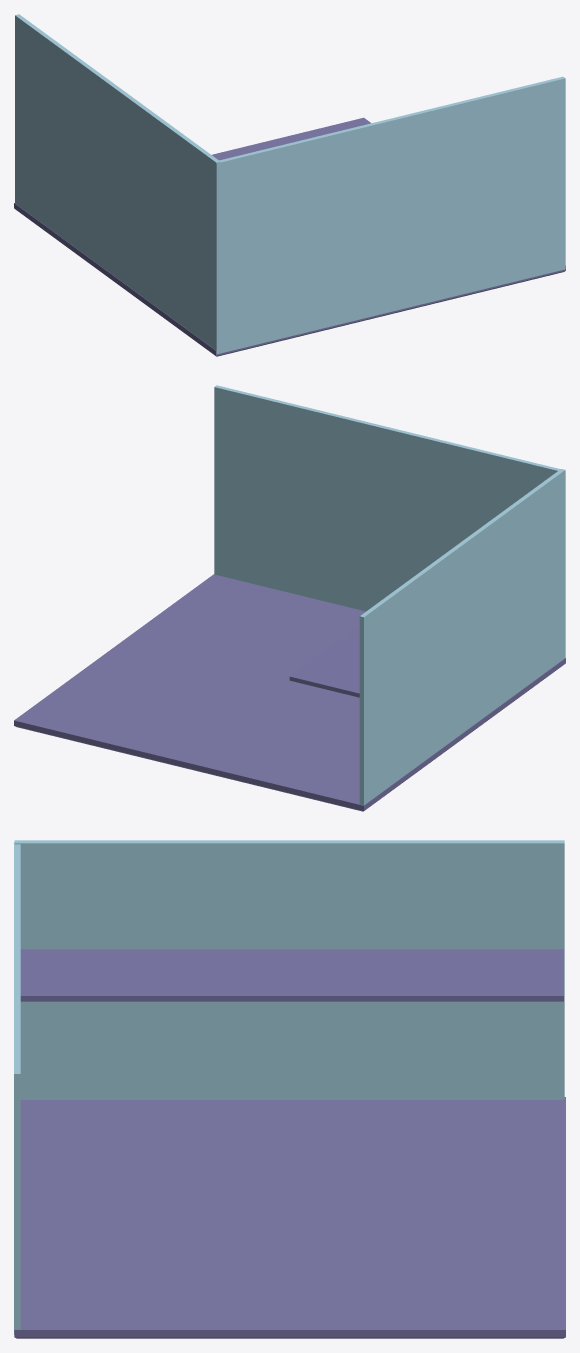
The model's file is The Wok.fbx.
3 views of the same model, one above another, from view 1: azimuth 30°, elevation 25°; view 2: azimuth 150°, elevation 25°; view 3: azimuth 270°, elevation 25° (orthographic). The views are drawn at different scales.
Parts seen in each view (by area): view 1: puzzles:pCube5; view 2: puzzles:pCube5; view 3: puzzles:pCube5.
Boxes of the visible parts, box(x1,y1,x2,y2) form: puzzles:pCube5: box(14, 14, 565, 356); puzzles:pCube5: box(14, 385, 565, 811); puzzles:pCube5: box(14, 840, 565, 1338).
Bounding box in the file's own units: 23.07 × 12.28 × 23.08.
